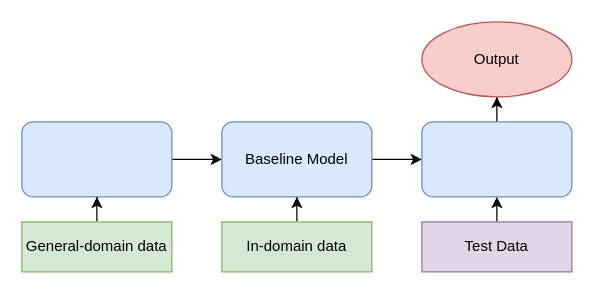
Image size: 594x294. Some labels were removed from this diagram. Each missing label, with the box of its shape:
Finetuned Model: (421, 121, 572, 197)
Initialize model: (21, 121, 172, 197)
